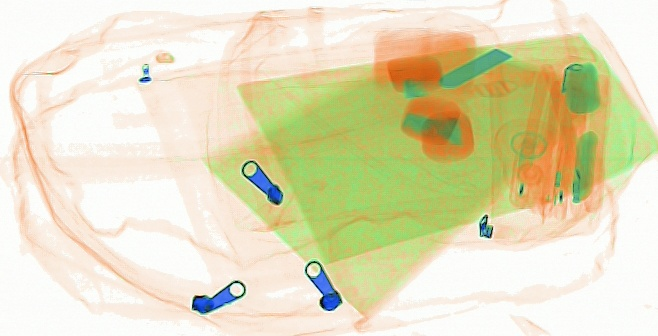knife: (434, 44, 513, 91)
